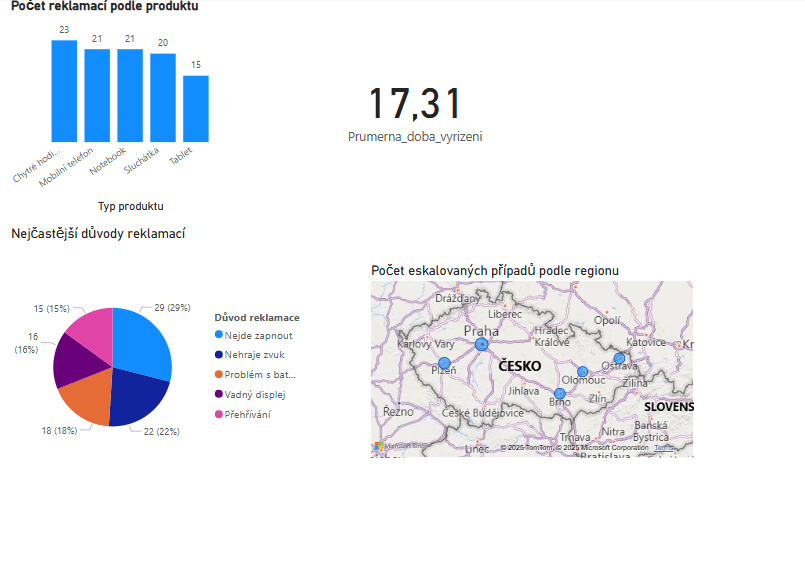

The page's visual inventory and layout, read from the dashboard file:
{"tool":"powerbi","page":{"name":"Stránka 1","canvas":[1280,720],"ordinal":0},"visuals":[{"type":"columnChart","title":"Počet reklamací podle produktu","fields":{"Category":["in.Typ produktu"],"Y":["CountNonNull(in.ID reklamace)"]},"box":[10,0,280,280],"z":0},{"type":"pieChart","title":"Nejčastější důvody reklamací","fields":{"Category":["in.Důvod reklamace"],"Y":["CountNonNull(in.ID reklamace)"]},"box":[10.2,290.5,394.2,343.4],"z":1000},{"type":"card","fields":{"Values":["Reklamace.Prumerna_doba_vyrizeni"]},"box":[390.1,65,280.4,148.3],"z":2000},{"type":"map","title":"Počet eskalovaných případů podle regionu","fields":{"Category":["Reklamace.Region zákazníka"],"Size":["CountNonNull(Reklamace.Počet eskalací)"]},"box":[469.3,337.3,420.6,254],"z":3000}]}

Visuals, with their boxes on the page's 1280x720 design canvas (x1, y1, x2, y2). These are canvas units, not pixel positions in the 805x562 screenshot, which may show the page scaled, cropped or inside an application window:
"Počet reklamací podle produktu" columnChart: box=[10, 0, 290, 280]
"Nejčastější důvody reklamací" pieChart: box=[10, 290, 404, 634]
card - Reklamace.Prumerna_doba_vyrizeni: box=[390, 65, 670, 213]
"Počet eskalovaných případů podle regionu" map: box=[469, 337, 890, 591]
